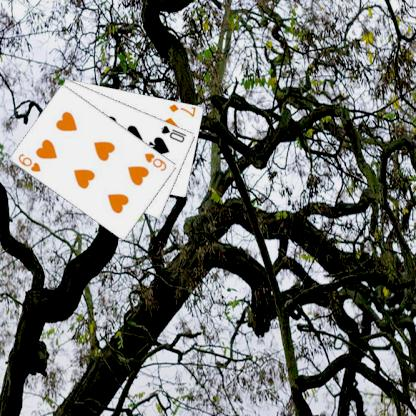10S: (159, 122, 188, 144)
6H: (142, 150, 168, 172), (16, 151, 42, 173)
7D: (166, 101, 197, 118)
